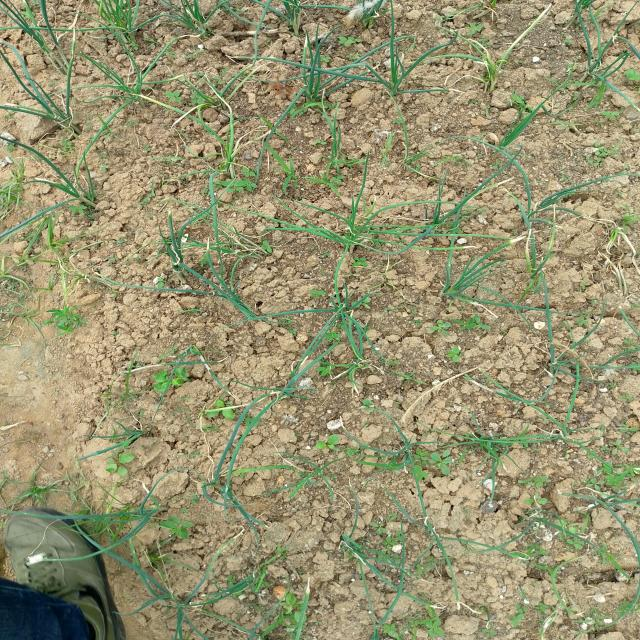Spring Onion: (344, 45, 446, 105), (298, 202, 396, 264), (492, 170, 578, 238), (82, 412, 171, 474), (11, 80, 90, 144), (28, 171, 116, 227), (522, 337, 620, 387), (428, 258, 507, 320), (127, 577, 228, 625), (448, 33, 512, 103), (276, 54, 340, 123), (16, 24, 92, 82), (97, 59, 172, 115), (178, 76, 252, 128), (553, 46, 629, 96), (390, 194, 476, 238), (130, 234, 212, 276), (242, 0, 328, 39), (192, 149, 262, 194), (309, 293, 378, 337), (269, 454, 344, 494), (160, 0, 225, 45), (509, 242, 569, 290), (168, 342, 238, 383), (90, 0, 147, 49), (470, 121, 528, 169), (454, 420, 520, 461), (383, 134, 447, 174), (125, 498, 185, 538), (325, 528, 377, 574), (256, 378, 321, 414), (340, 0, 408, 34), (374, 435, 427, 474), (308, 136, 364, 172), (201, 284, 261, 317), (404, 517, 456, 555), (232, 560, 288, 594), (195, 469, 240, 510), (574, 484, 625, 517), (519, 506, 568, 537), (560, 0, 616, 26), (199, 392, 239, 423)
